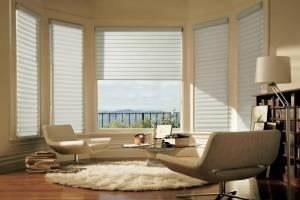window: (95, 78, 182, 131)
